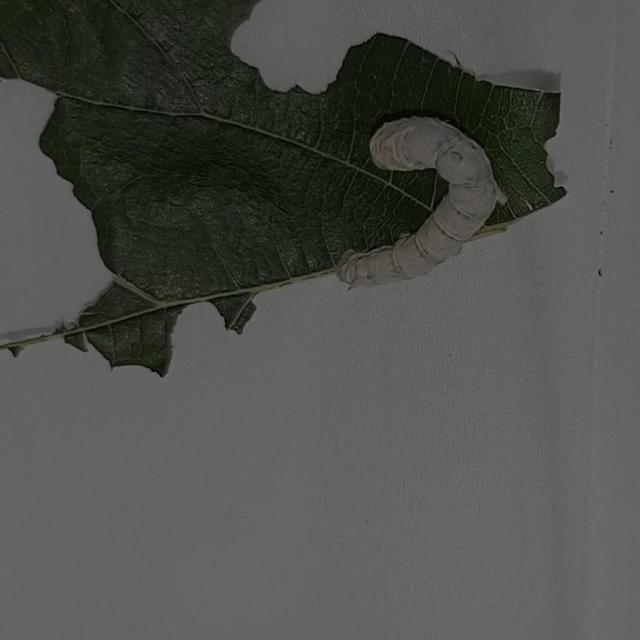Healthy: (332, 111, 521, 299)
